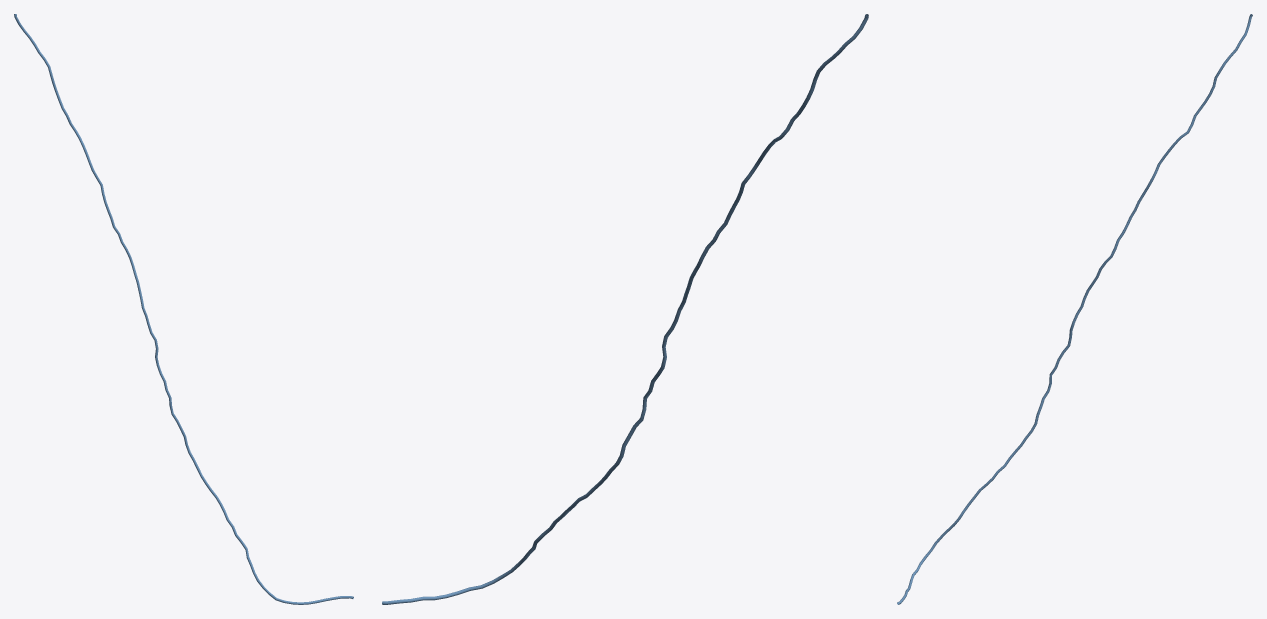
The model's file is sweep242.fbx.
3 views of the same model, side by side, from view 1: azimuth 30°, elevation 25°; view 2: azimuth 210°, elevation 25°; view 3: azimuth 270°, elevation 25° (orthographic). The views are drawn at different scales.
Visible parts, largest first — view 1: sweep242; view 2: sweep242; view 3: sweep242.
Boxes of the visible parts, x1,y1,x2,y2 form: sweep242: (14,14,353,604); sweep242: (382,14,868,604); sweep242: (897,14,1252,604).
Bounding box in the file's own units: 1.41 × 4.02 × 2.54.
